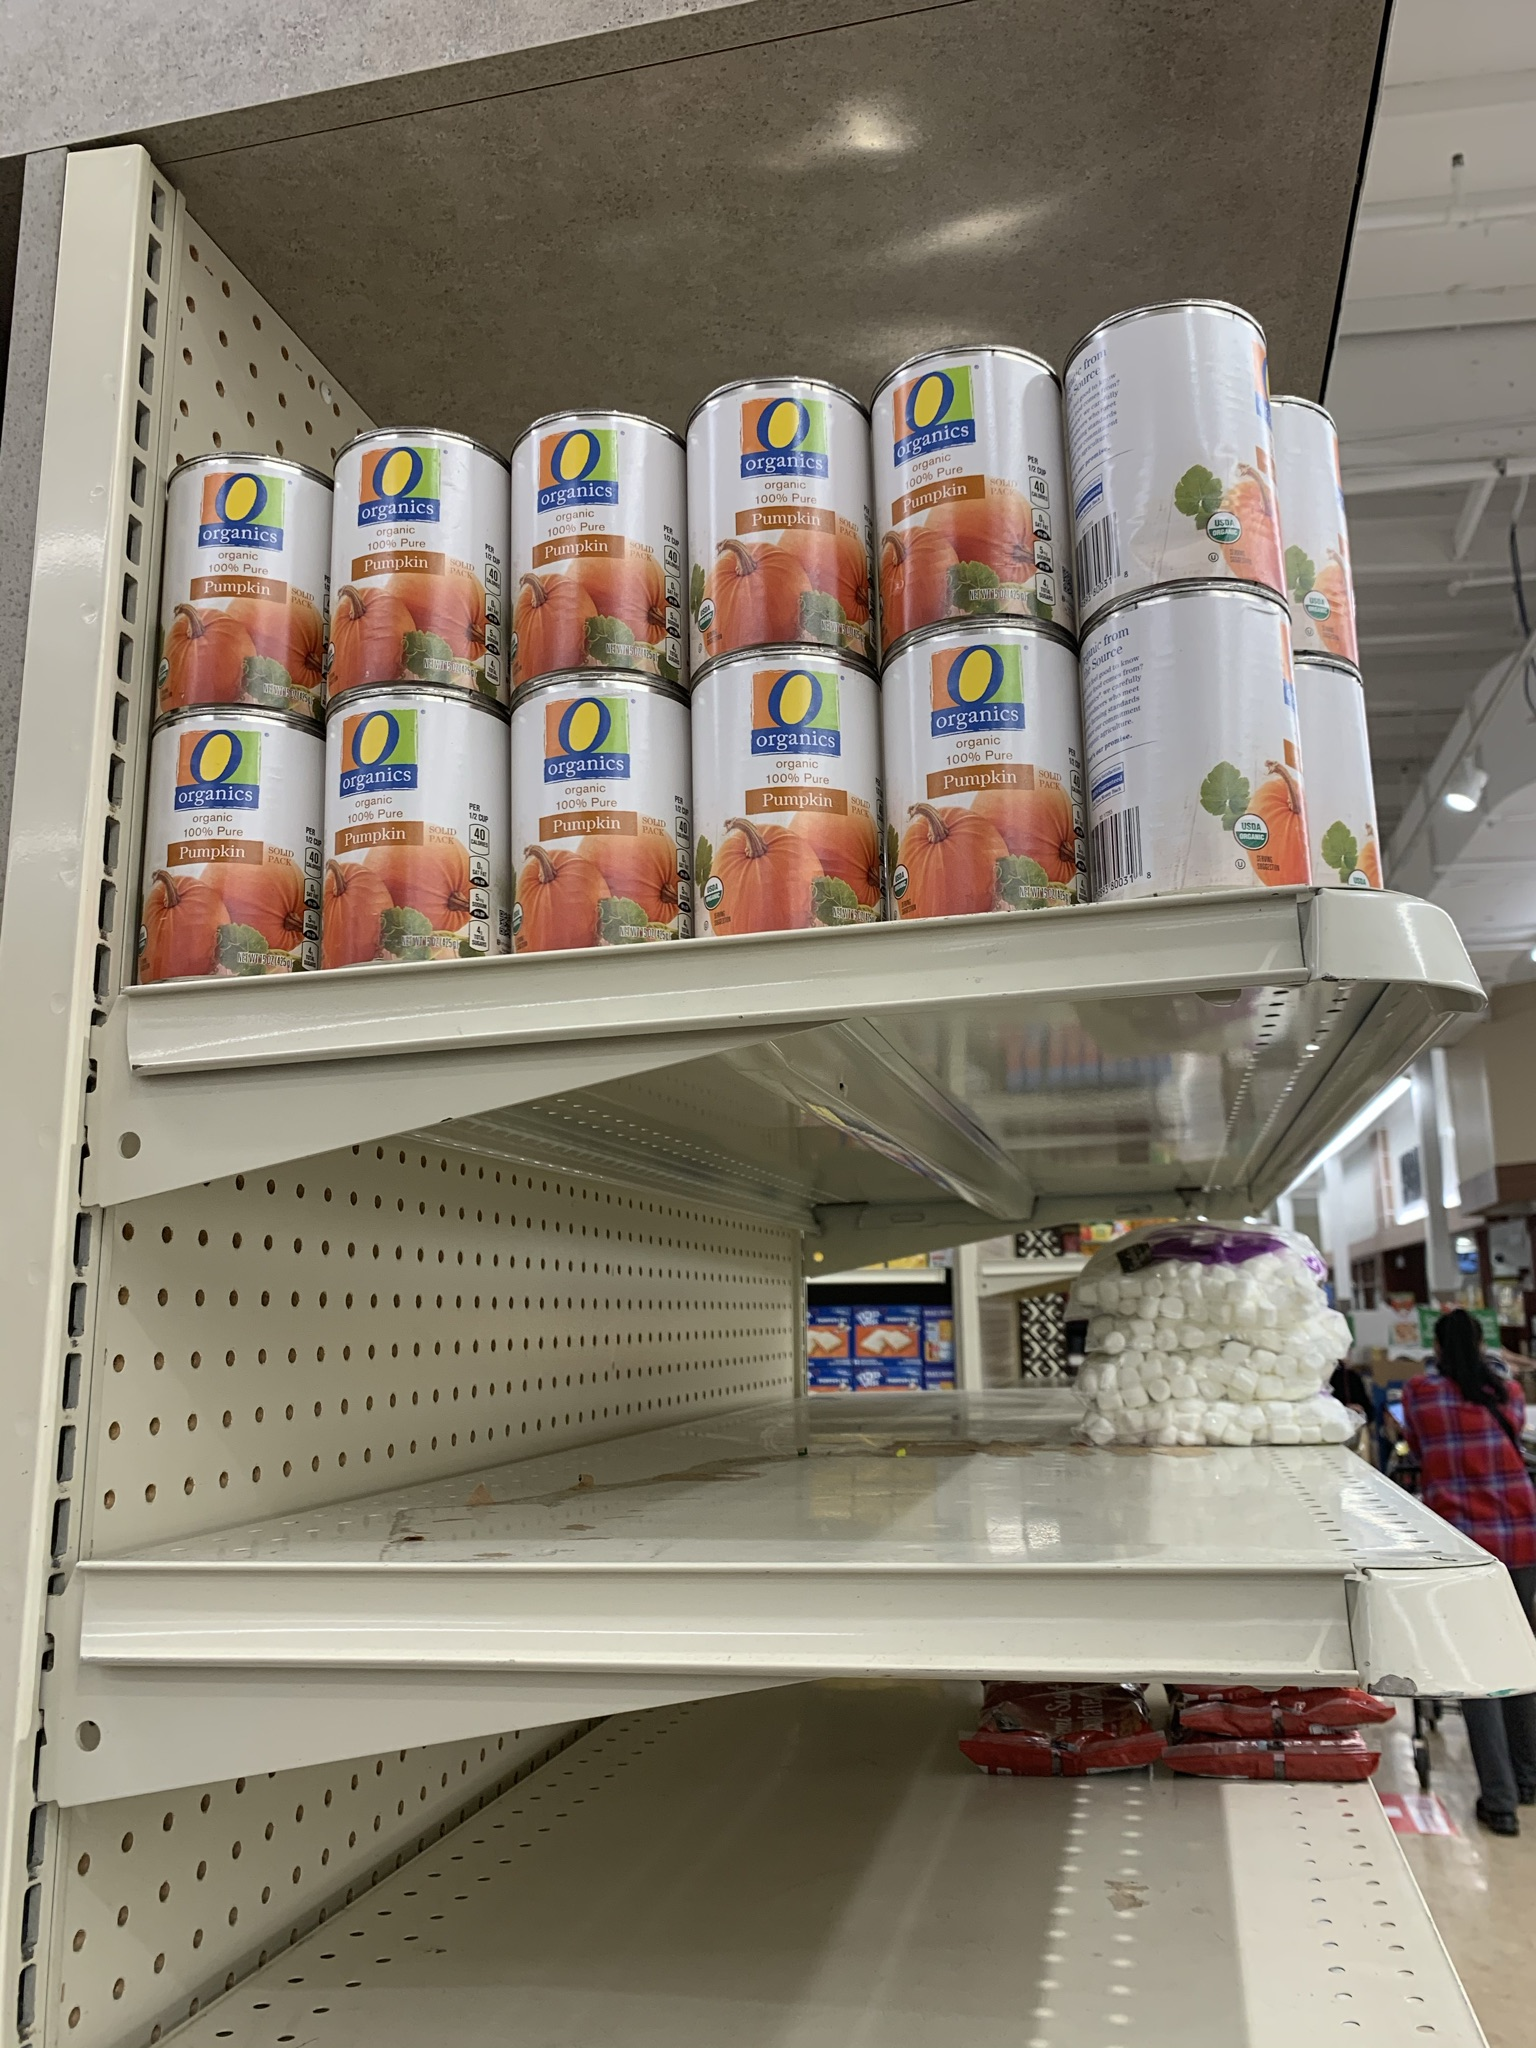can: (1071, 593, 1309, 897), (1060, 298, 1281, 595), (874, 624, 1081, 911), (870, 347, 1063, 626), (687, 377, 871, 658), (691, 658, 878, 930), (505, 687, 695, 943), (328, 689, 503, 959), (140, 710, 318, 976), (505, 411, 682, 676), (153, 455, 328, 706), (332, 431, 505, 684)
